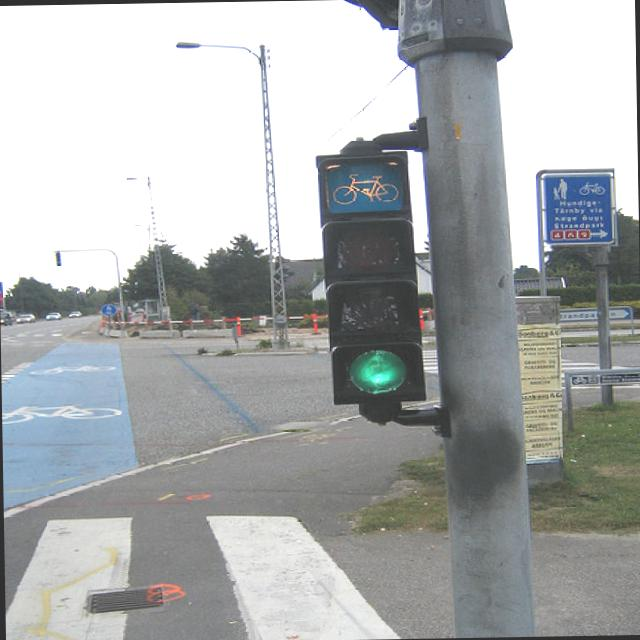Vehicle: (16, 313, 36, 323), (0, 312, 12, 327), (44, 311, 61, 320), (68, 311, 82, 317), (137, 308, 142, 312)
